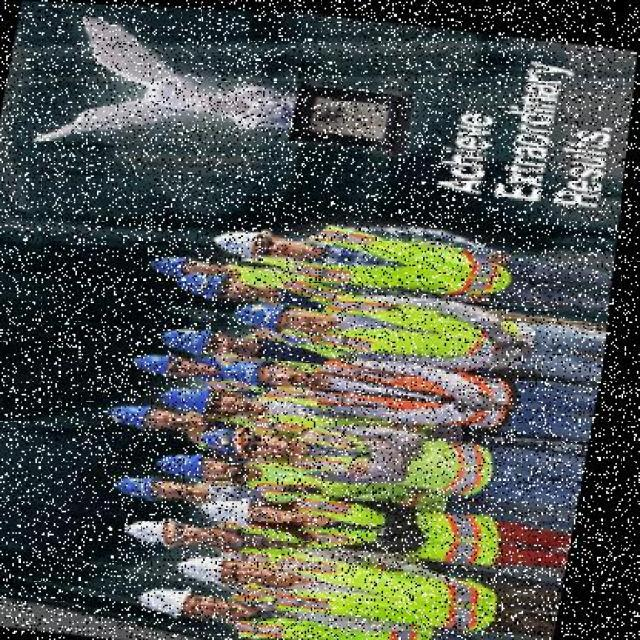helmet: (234, 293, 308, 334), (202, 483, 270, 527), (146, 578, 208, 618), (208, 220, 272, 258), (133, 511, 196, 549), (163, 445, 223, 481), (206, 419, 266, 455), (221, 351, 277, 387), (188, 546, 239, 584), (159, 322, 223, 352), (108, 399, 168, 429), (168, 380, 224, 412), (177, 269, 236, 295), (126, 471, 172, 501), (141, 346, 187, 374), (157, 254, 197, 274)
vest: (322, 289, 540, 363), (294, 552, 508, 621), (309, 226, 523, 294), (295, 491, 513, 557), (291, 426, 495, 487), (337, 357, 523, 419), (257, 597, 431, 639)
